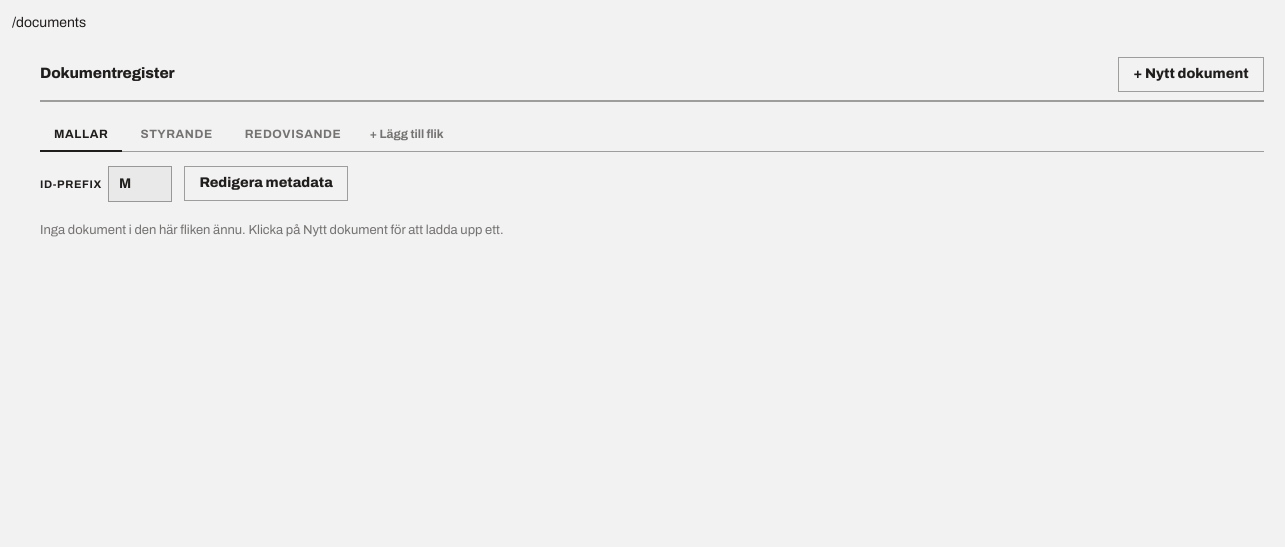
it: adding a document › numbers documents in the order they are added
Click the button "+ Nytt dokument" at (1191, 74), box [1118, 57, 1264, 92]
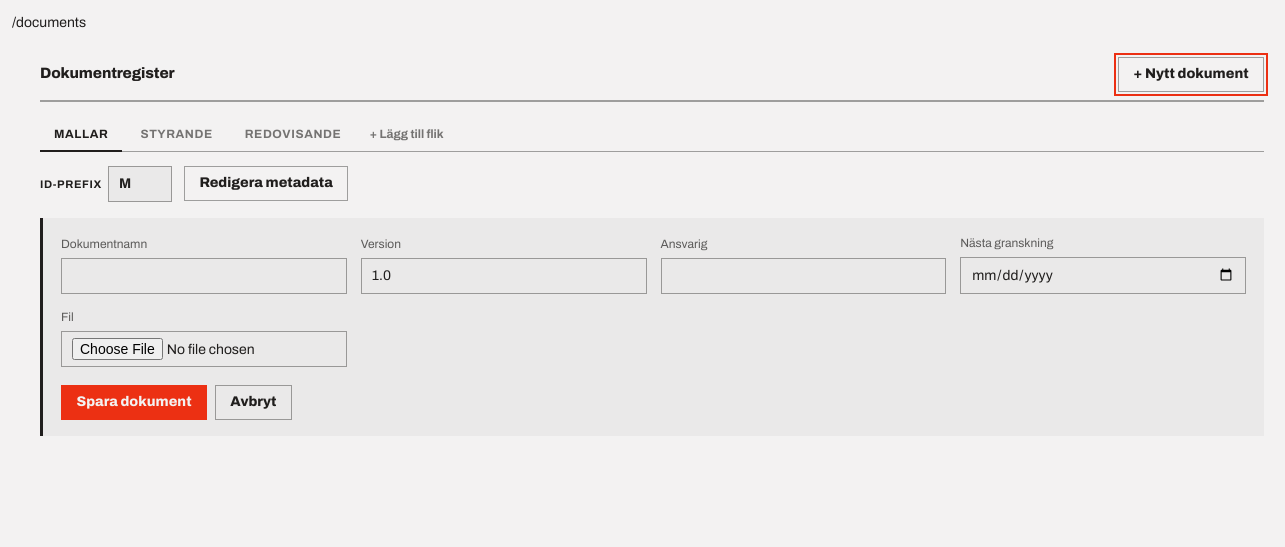
Type "Först" into the field labelled "Dokumentnamn" at (204, 276), box [61, 258, 347, 294]
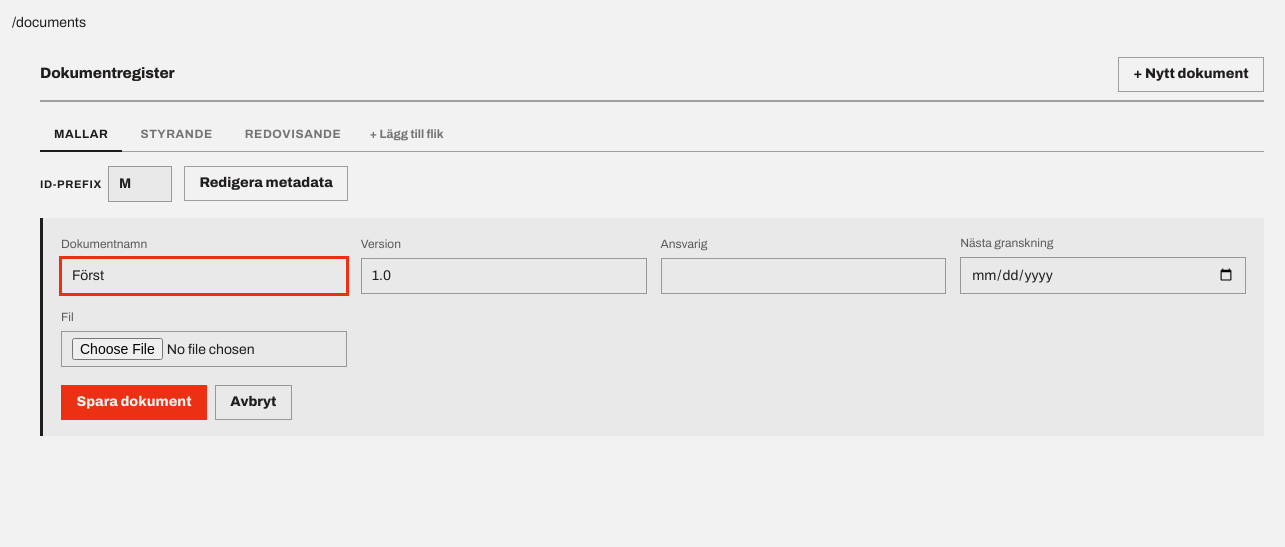
Click the button "Spara dokument" at (134, 402), box [61, 385, 207, 420]
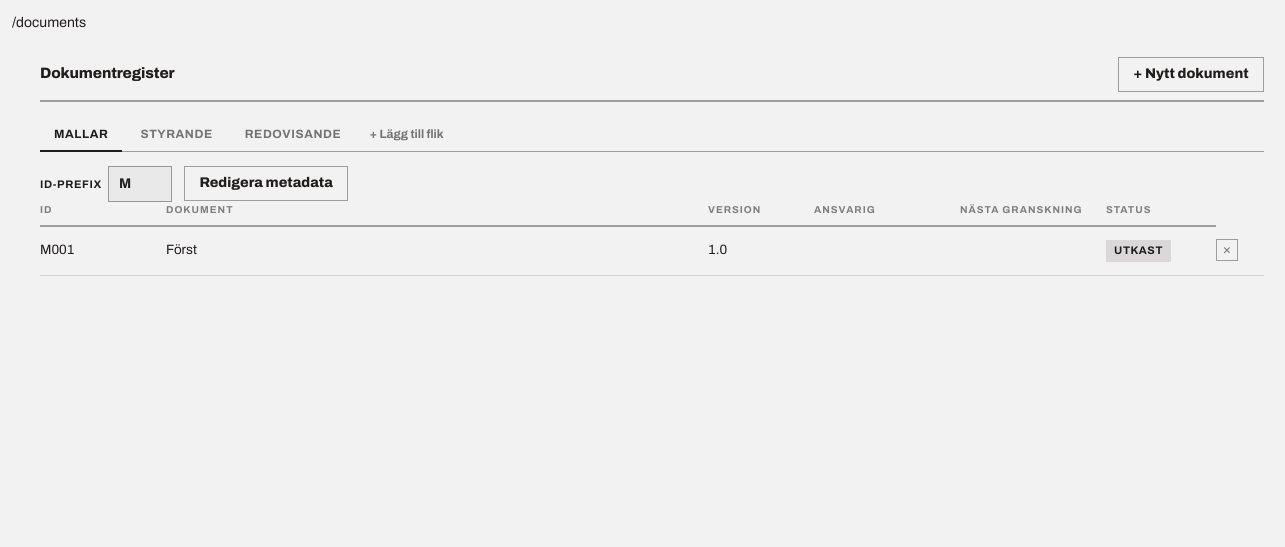
Click the button "+ Nytt dokument" at (1191, 74), box [1118, 57, 1264, 92]
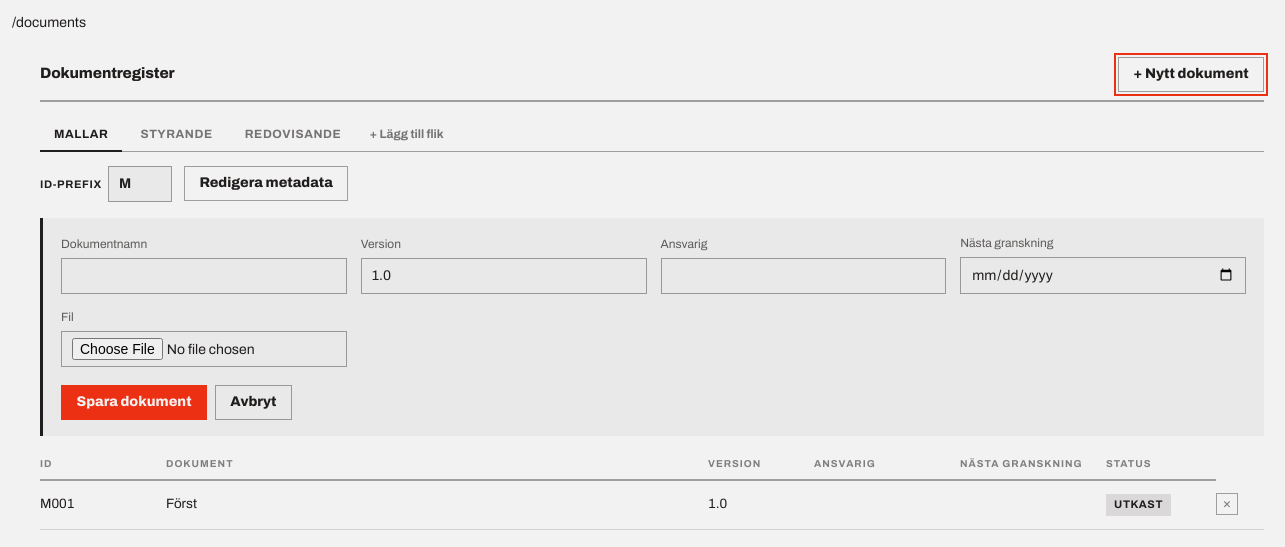
Type "Sedan" into the field labelled "Dokumentnamn" at (204, 276), box [61, 258, 347, 294]
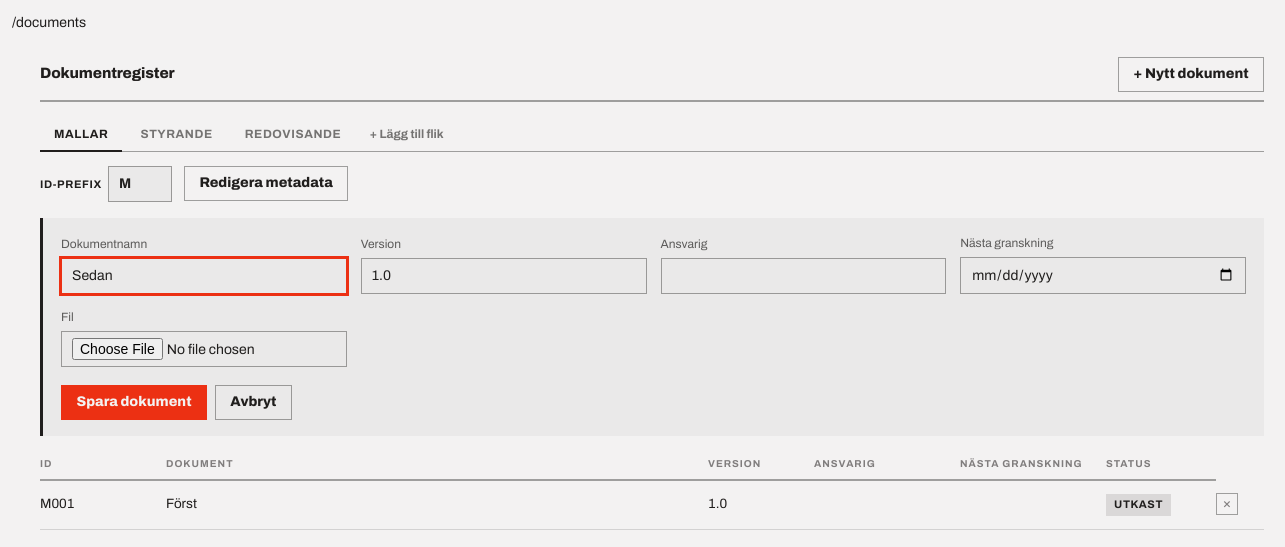
Click the button "Spara dokument" at (134, 402), box [61, 385, 207, 420]
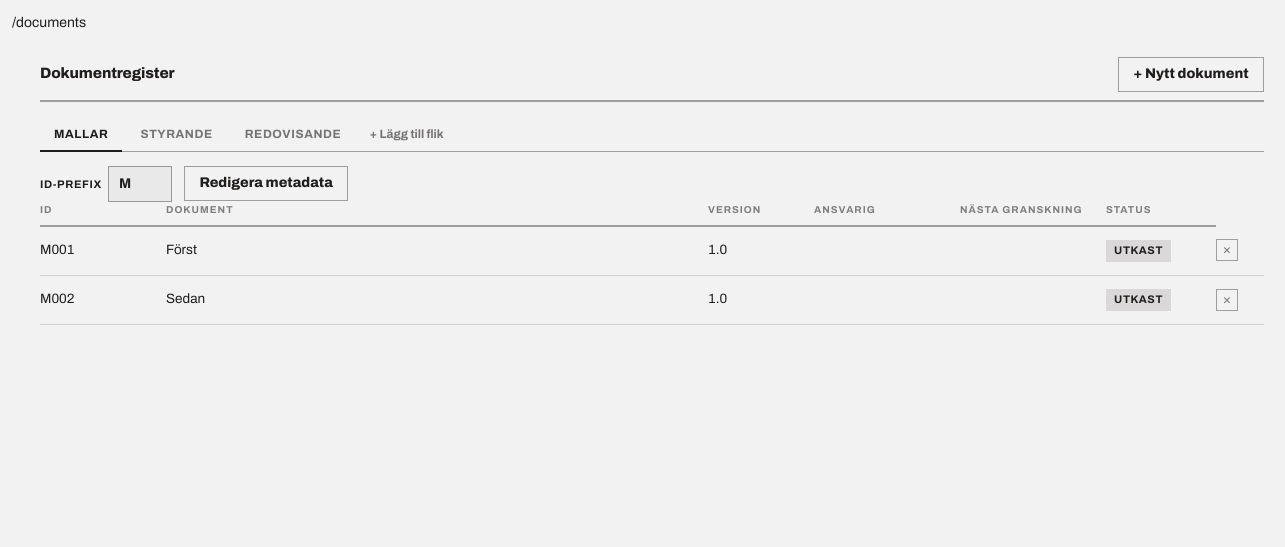
Expected: the text "M001" is shown, [40, 226, 166, 275]
Expected: the text "M002" is shown, [40, 275, 166, 324]
